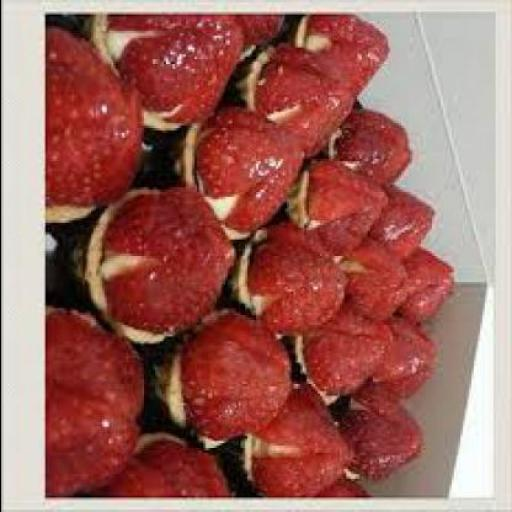biodegradable: (82, 182, 239, 342), (154, 305, 294, 448), (46, 18, 141, 223), (46, 306, 145, 495), (178, 106, 306, 237), (99, 14, 244, 126), (233, 219, 349, 334), (261, 45, 354, 168), (292, 299, 398, 405), (103, 432, 235, 510), (296, 157, 386, 268), (332, 384, 426, 484), (296, 14, 392, 109), (334, 109, 411, 199), (336, 242, 405, 334), (368, 315, 438, 399), (374, 180, 435, 263), (398, 248, 455, 330), (231, 12, 290, 62)
